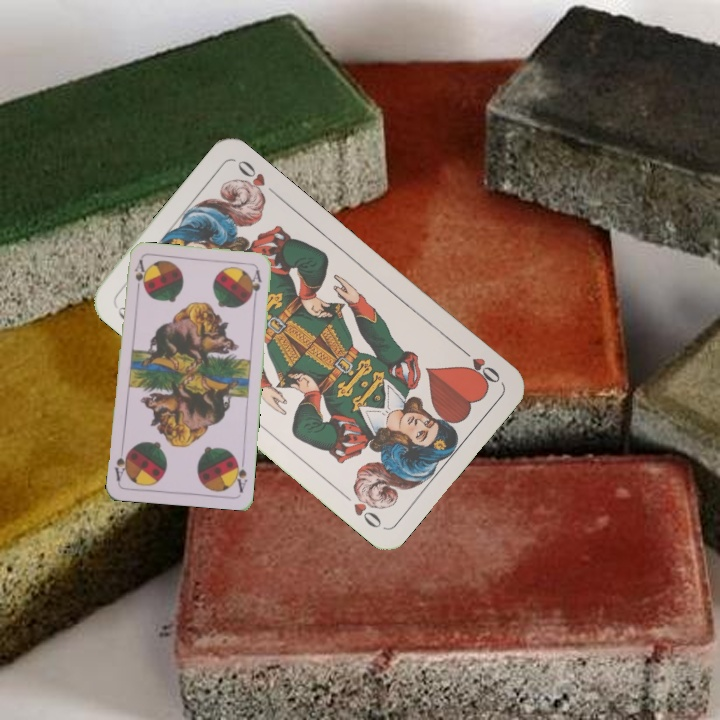HO: (455, 342, 503, 388)
SA: (230, 454, 249, 494), (131, 256, 146, 297)
